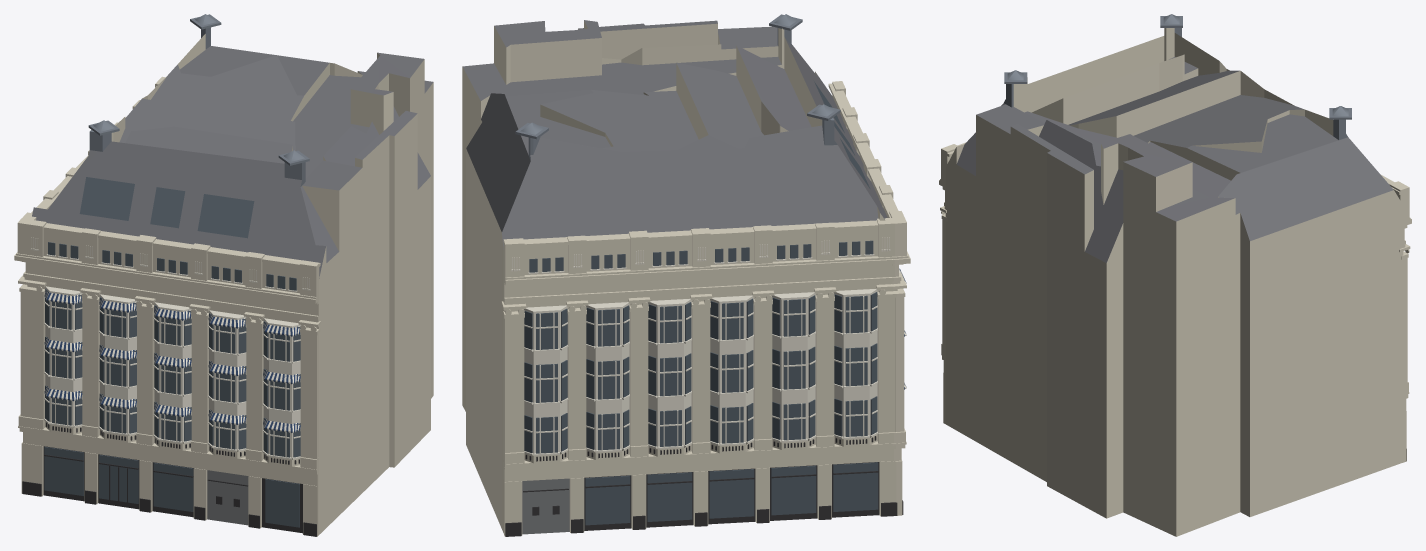
The model's file is maison-de-vries-leidseplein.glb.
3 views of the same model, side by side, from view 1: azimuth 30°, elevation 25°; view 2: azimuth 150°, elevation 25°; view 3: azimuth 270°, elevation 25° (orthographic). The views are drawn at different scales.
Visible parts, largest first — view 1: maison-de-vries-leidseplein; view 2: maison-de-vries-leidseplein; view 3: maison-de-vries-leidseplein.
Boxes of the visible parts, x1=… form: maison-de-vries-leidseplein: x1=14, y1=14, x2=433, y2=536; maison-de-vries-leidseplein: x1=462, y1=14, x2=910, y2=536; maison-de-vries-leidseplein: x1=939, y1=14, x2=1411, y2=536.
Size of the model in its own units: 31.67 by 25.98 by 30.91.
